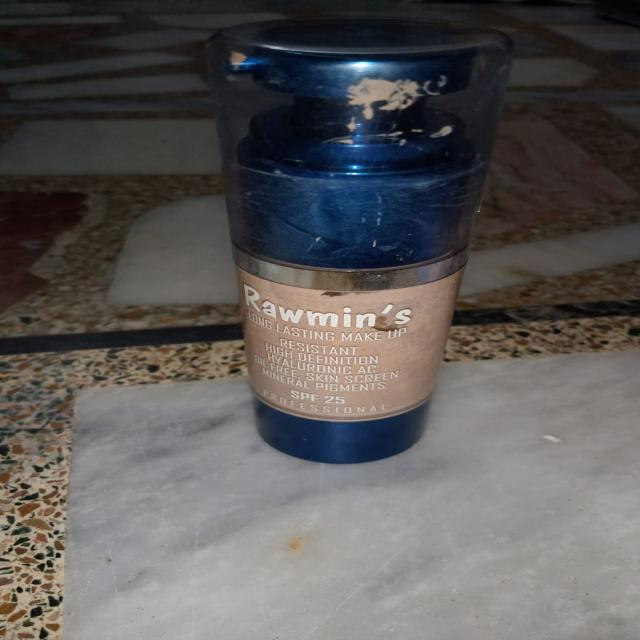foundation: (186, 3, 539, 474)
